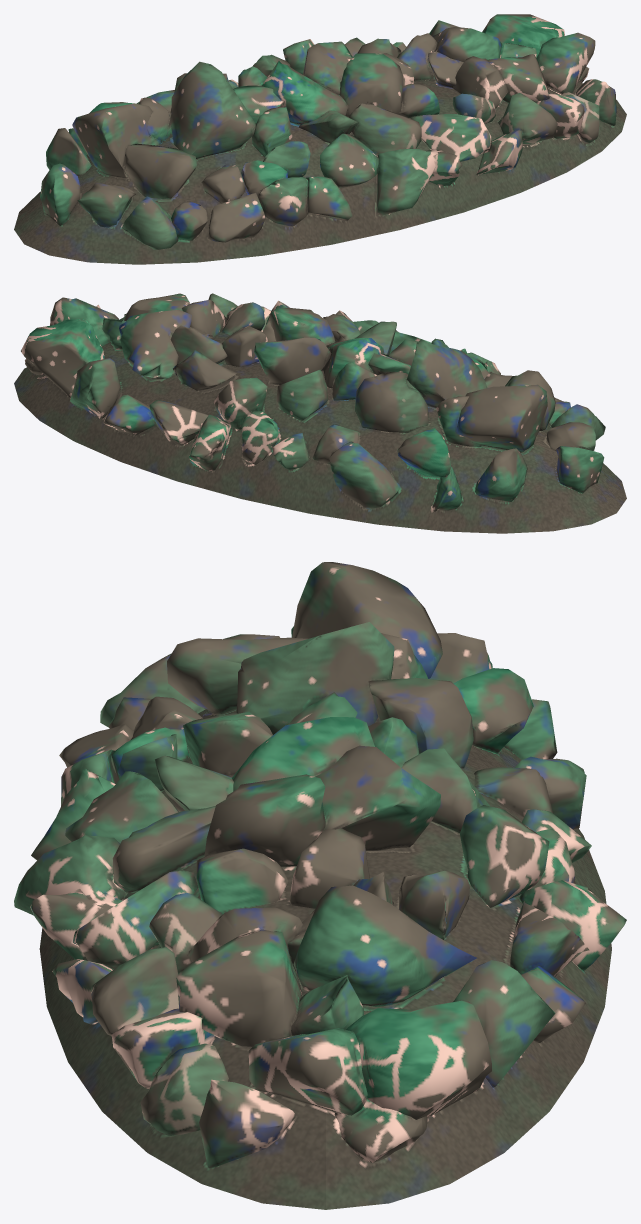
Rendered from SM_Camp_OreCopper.fbx.
3 renders of one model, top to bottom at view 1: azimuth 30°, elevation 25°; view 2: azimuth 150°, elevation 25°; view 3: azimuth 270°, elevation 25°, orthographic. The views are drawn at different scales.
Visible parts, largest first — view 1: SM_Camp_OreCopper; view 2: SM_Camp_OreCopper; view 3: SM_Camp_OreCopper.
Boxes of the visible parts, box(x1,y1,x2,y2) form: SM_Camp_OreCopper: box(14, 14, 626, 264); SM_Camp_OreCopper: box(14, 293, 626, 533); SM_Camp_OreCopper: box(14, 562, 626, 1209).
Bounding box in the file's own units: 164 × 81.4 × 33.88.
